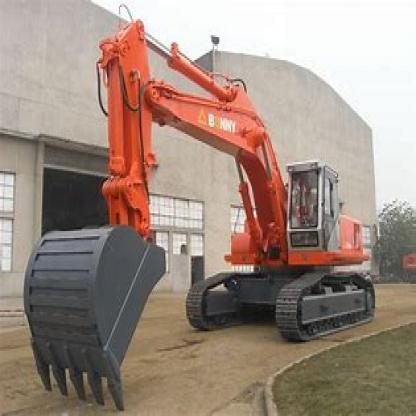excavator: (23, 2, 388, 409)
